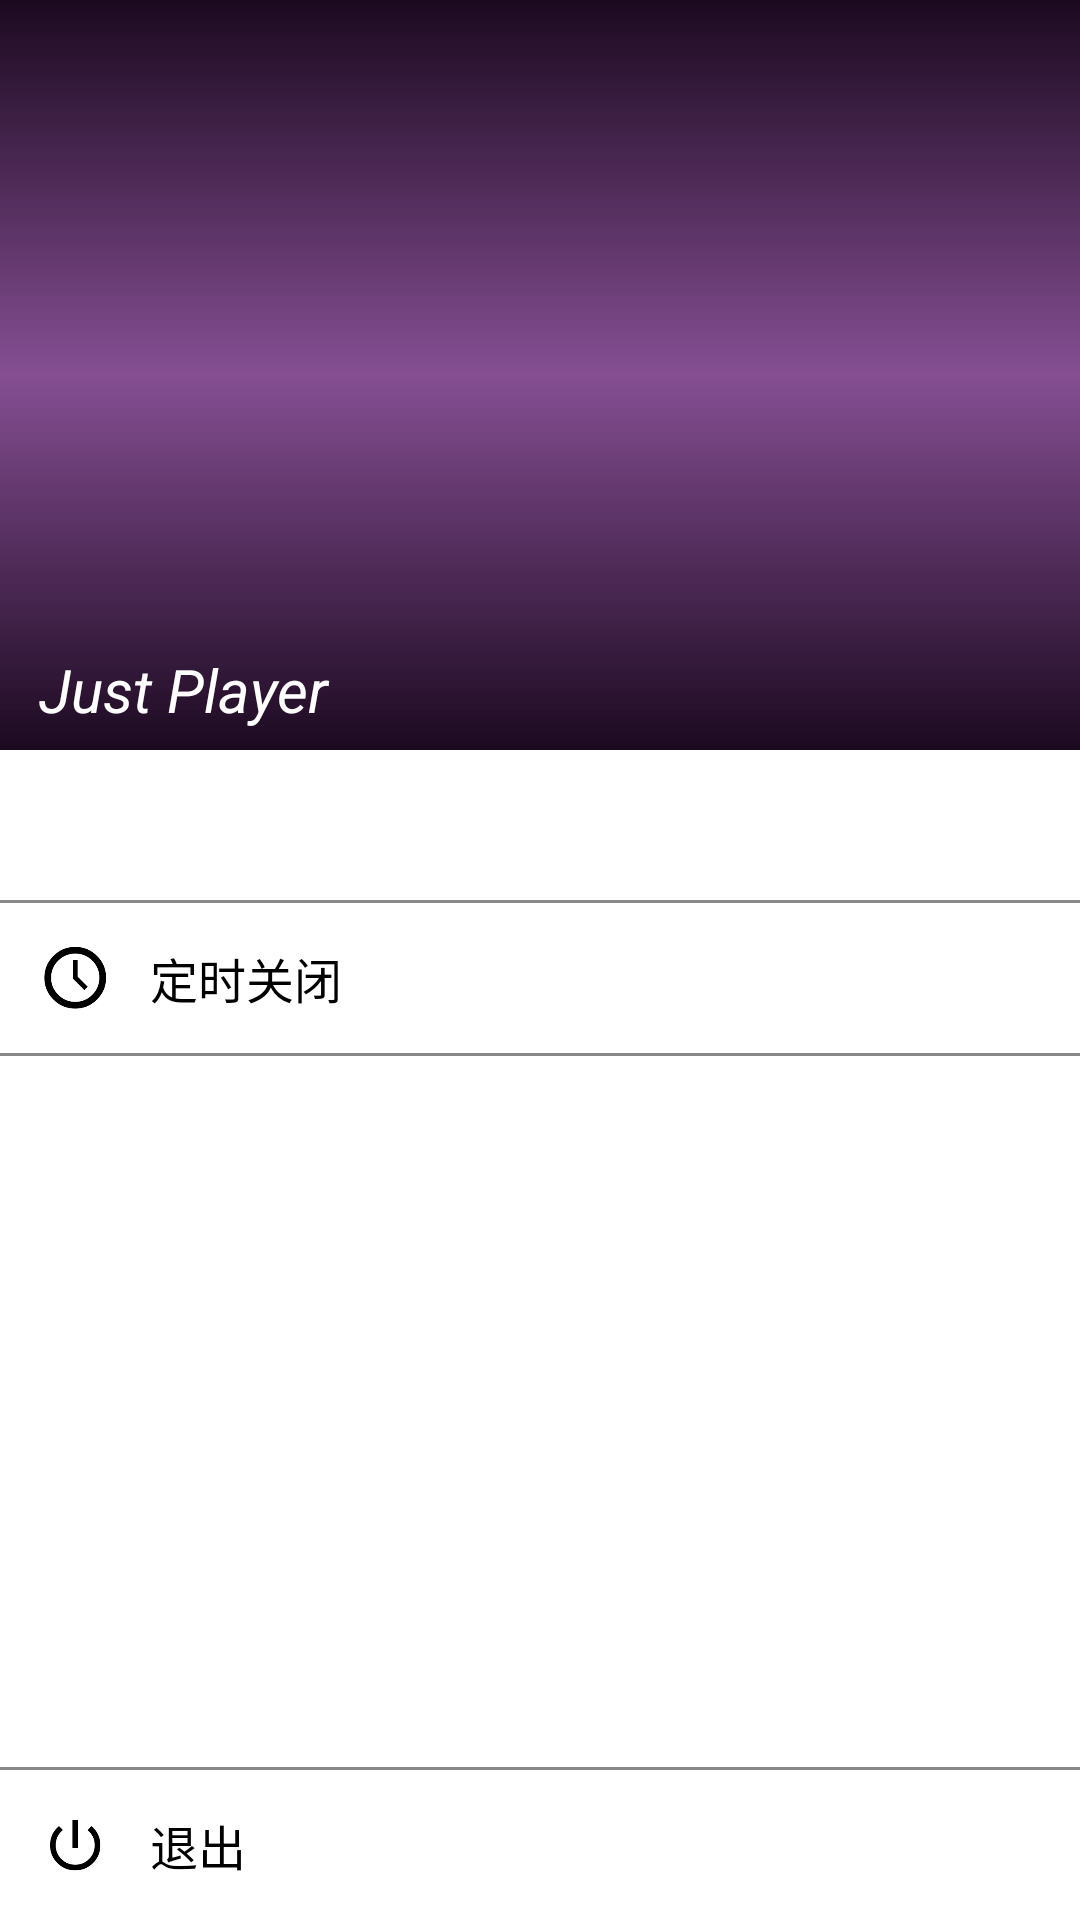

Named icons in this screenshot (1080px×1920px) and their bounding boxes, (x1, y1, x2, y2):
exit in menu: (50, 1820, 101, 1871)
timer in menu: (44, 947, 106, 1009)
